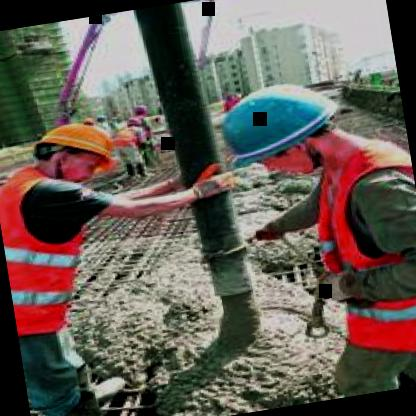helmet: (201, 62, 361, 188), (19, 111, 123, 190)
